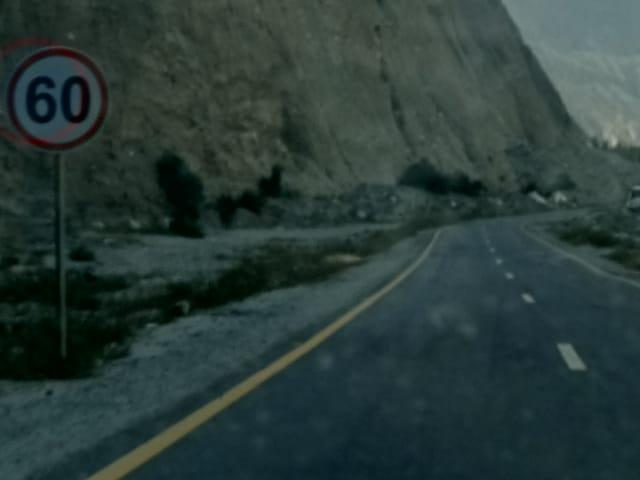right_turn: (395, 178, 612, 297)
sharp_turn: (377, 230, 640, 480)
